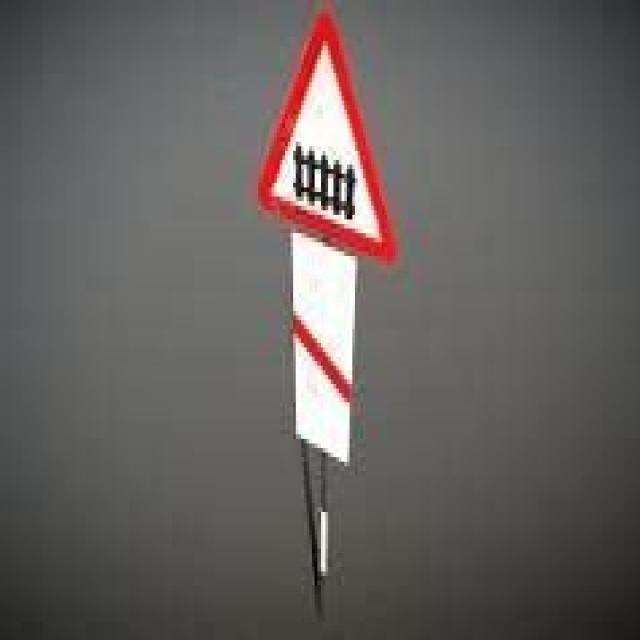guarded level crossing: (249, 14, 404, 261)
